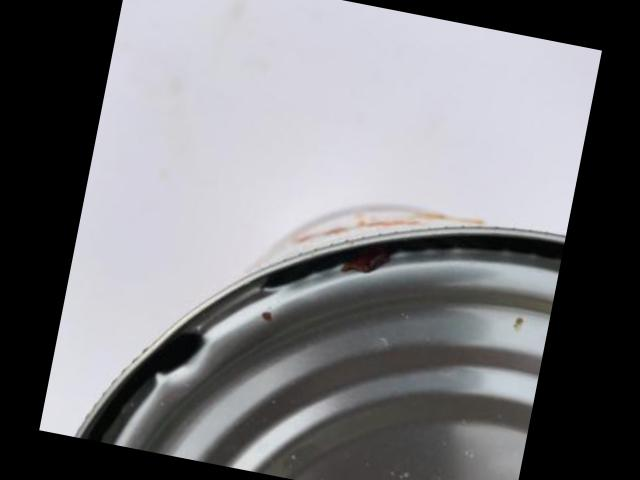metal: (72, 202, 564, 480)
